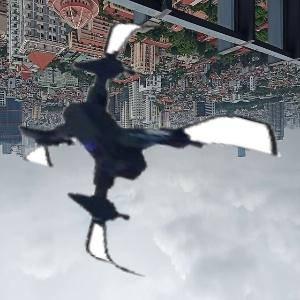drone: (13, 15, 280, 282)
